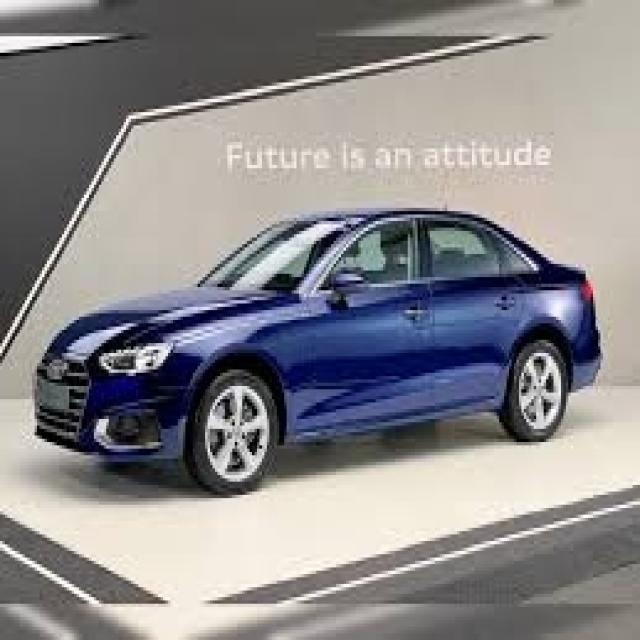blue: (35, 204, 605, 489)
